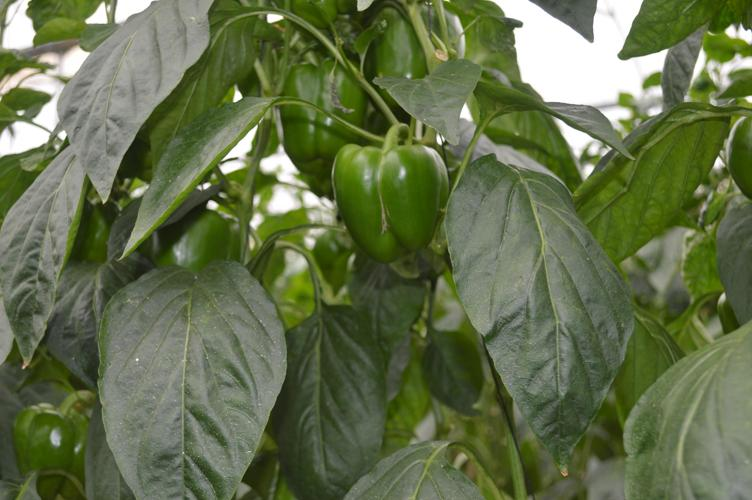BellPepper: (332, 146, 451, 255), (366, 10, 466, 102), (282, 63, 360, 166), (10, 407, 93, 495), (139, 213, 238, 270)
